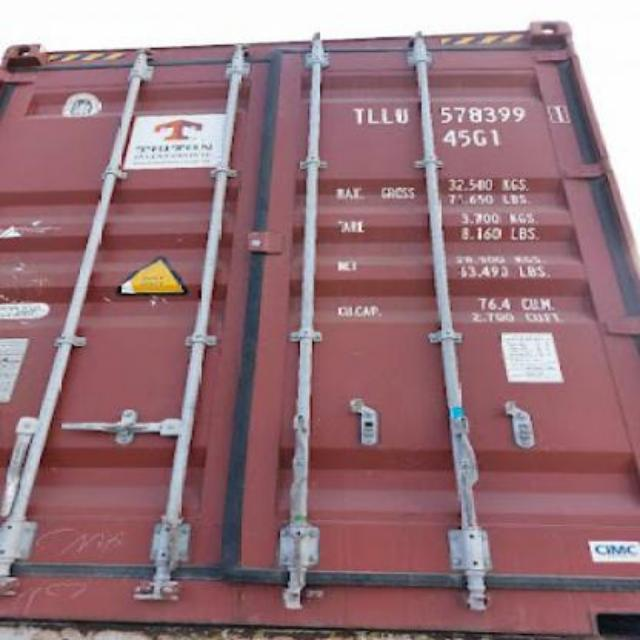1: (546, 101, 572, 125)
3: (480, 101, 496, 125)
5: (438, 102, 452, 126)
7: (452, 100, 468, 124)
8: (468, 101, 482, 125)
9: (510, 98, 526, 130), (494, 99, 510, 129)
L: (366, 98, 378, 132), (381, 102, 394, 126)
T: (350, 102, 366, 126)
U: (394, 102, 410, 128)
